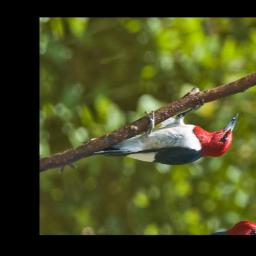Woodpecker: (80, 85, 248, 196)
